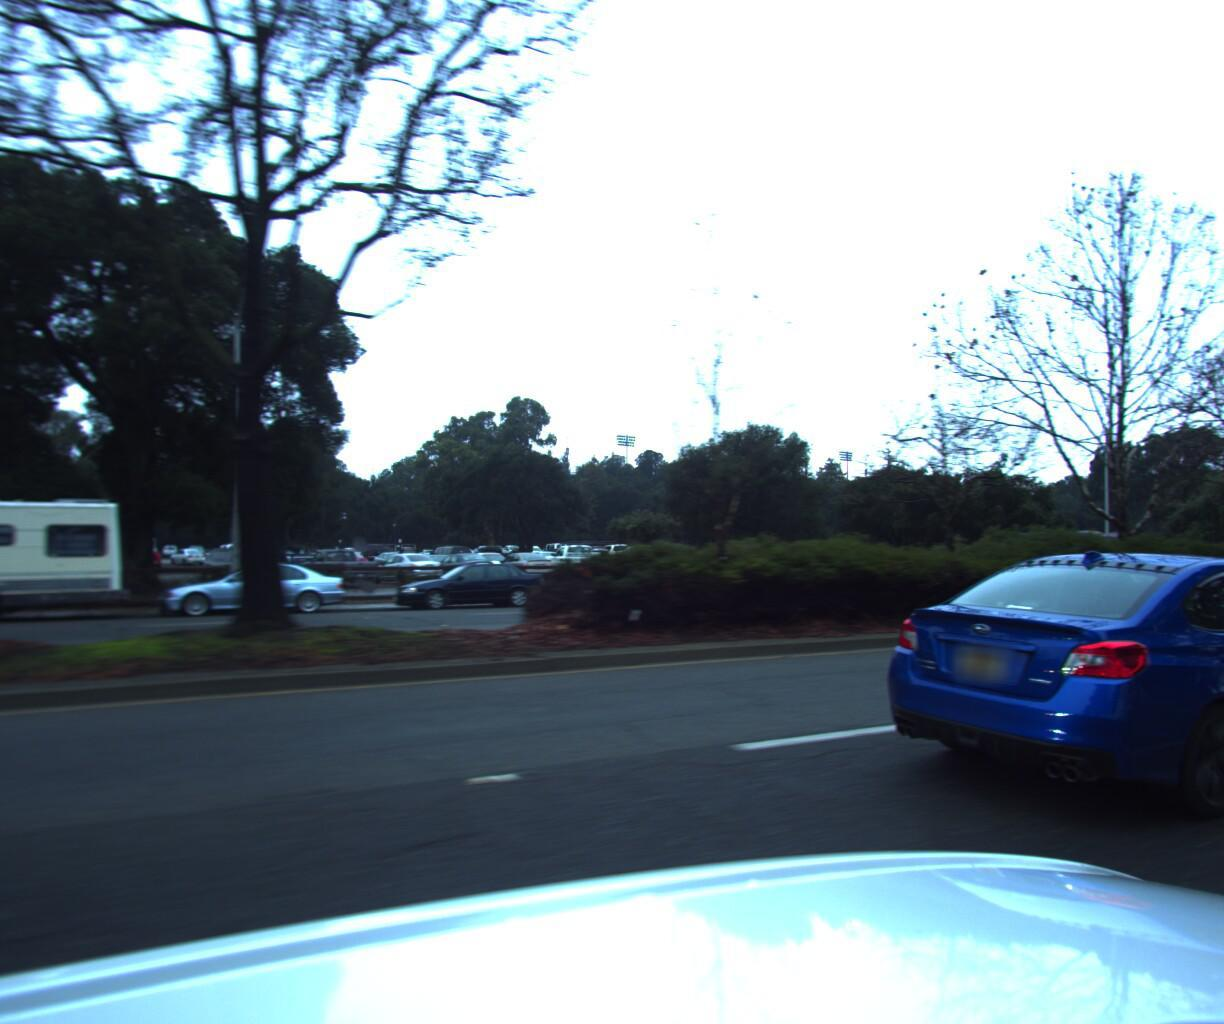car: (859, 549, 1224, 871), (157, 556, 355, 621), (383, 559, 551, 614)
other_vehicle: (0, 477, 133, 641)
